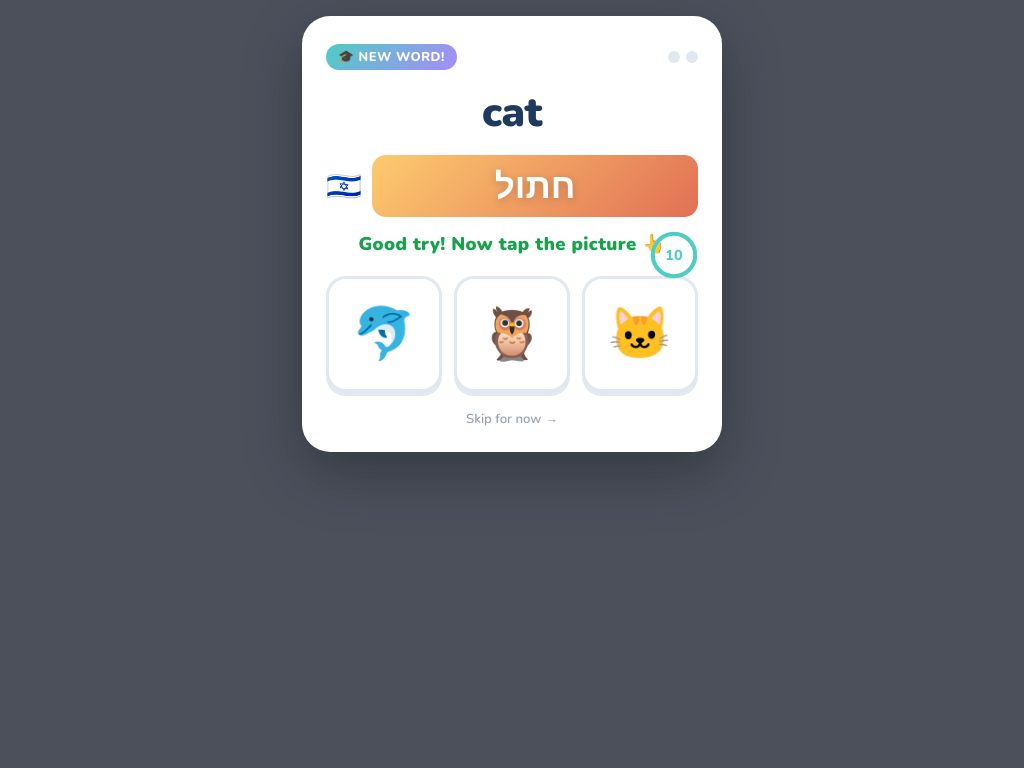
Test: WordChallenge (tap fallback) › reveals the answer and skips after both wrong pictures are tapped
Click the button with class "choice-card" showing "🐬". click: [384, 334]
box: [326, 276, 442, 392]
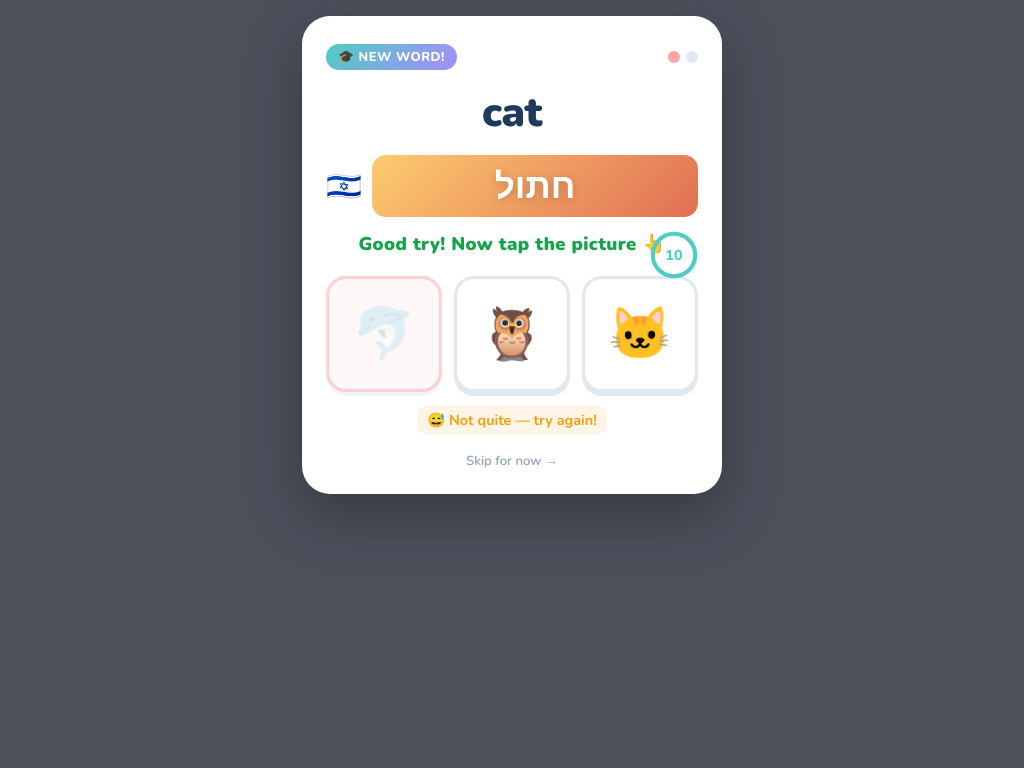
Click the button with class "choice-card" showing "🦉". click: [512, 334]
box: [454, 276, 570, 392]
Wait 4000 ms
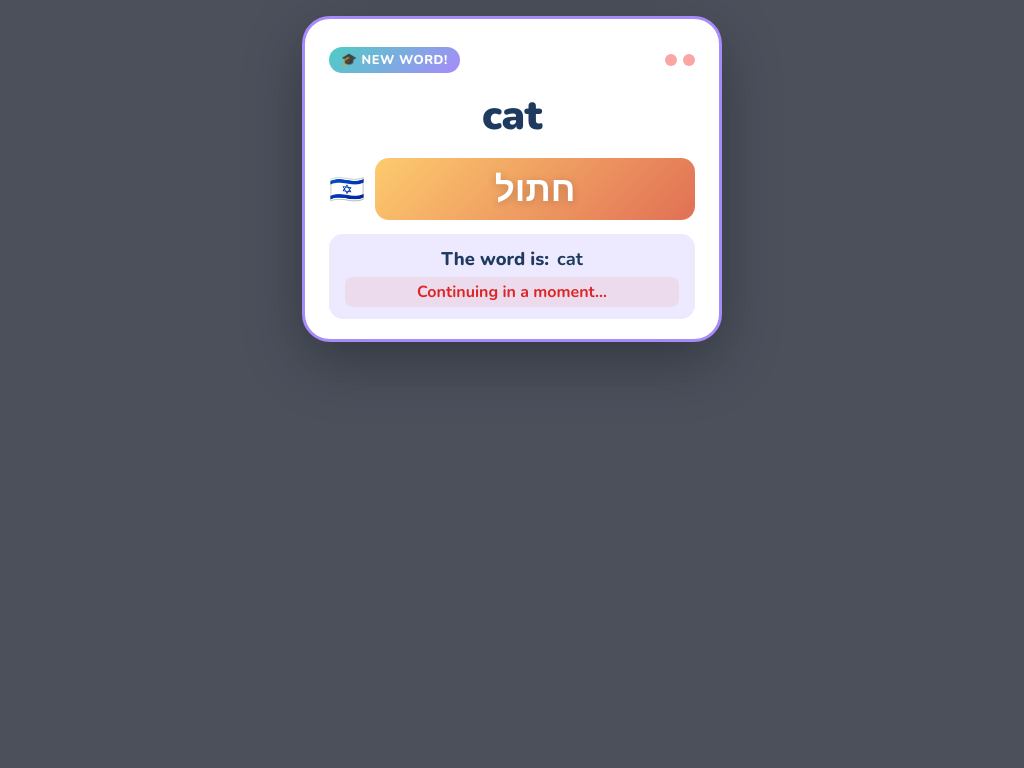
Result: the text "The word is: cat" is shown at [441, 246, 583, 271]
